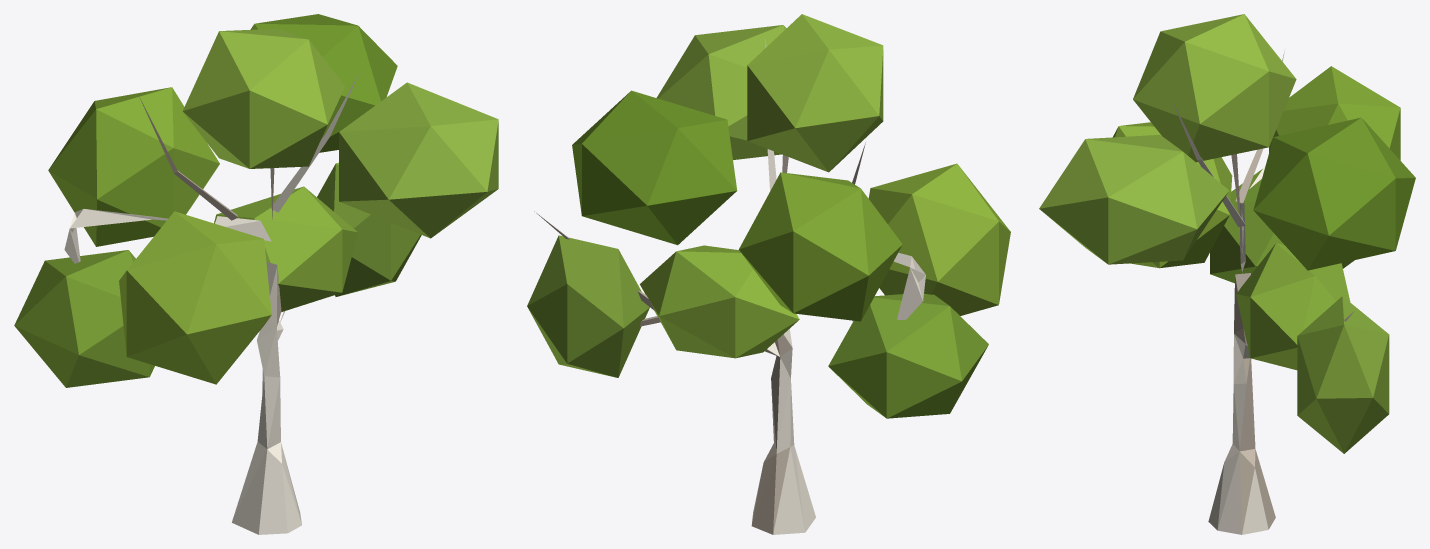
The model's file is birch_bloom_far.glb.
The picture shows the model from 3 angles, left to right: view 1: azimuth 30°, elevation 25°; view 2: azimuth 150°, elevation 25°; view 3: azimuth 270°, elevation 25°; orthographic projection. The views are drawn at different scales.
Parts seen in each view (by area): view 1: birch_bloom_far; view 2: birch_bloom_far; view 3: birch_bloom_far.
Part boxes in pixels (x1,y1,x2,y2): birch_bloom_far: (14,14,498,534); birch_bloom_far: (527,14,1010,534); birch_bloom_far: (1039,14,1415,534).
Bounding box in the file's own units: 6.22 × 7.07 × 4.99.
